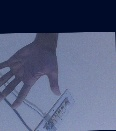hand: (1, 37, 63, 111)
